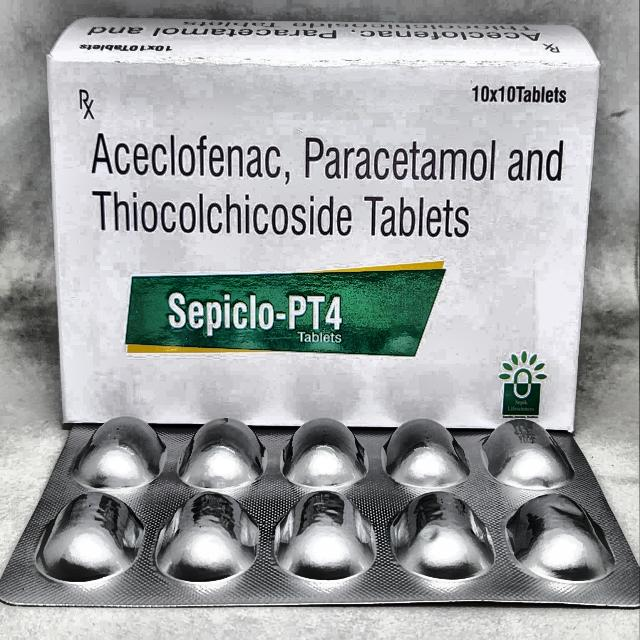Paracetamol: (66, 108, 578, 324)
